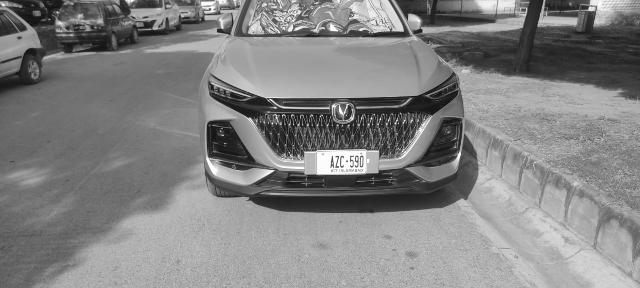Number: (330, 154, 364, 170)
